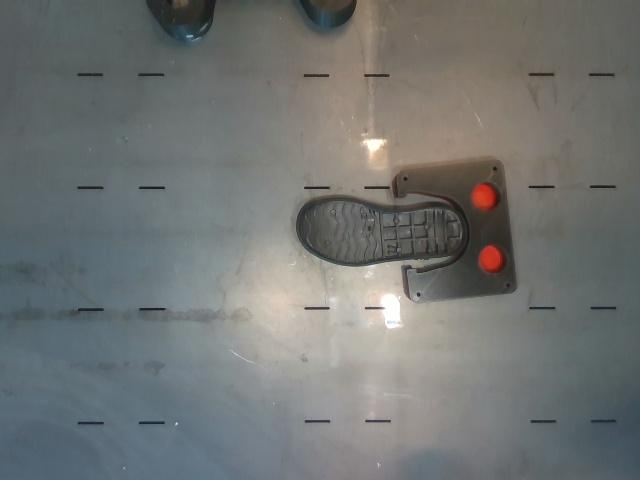shoes: (298, 200, 464, 265)
